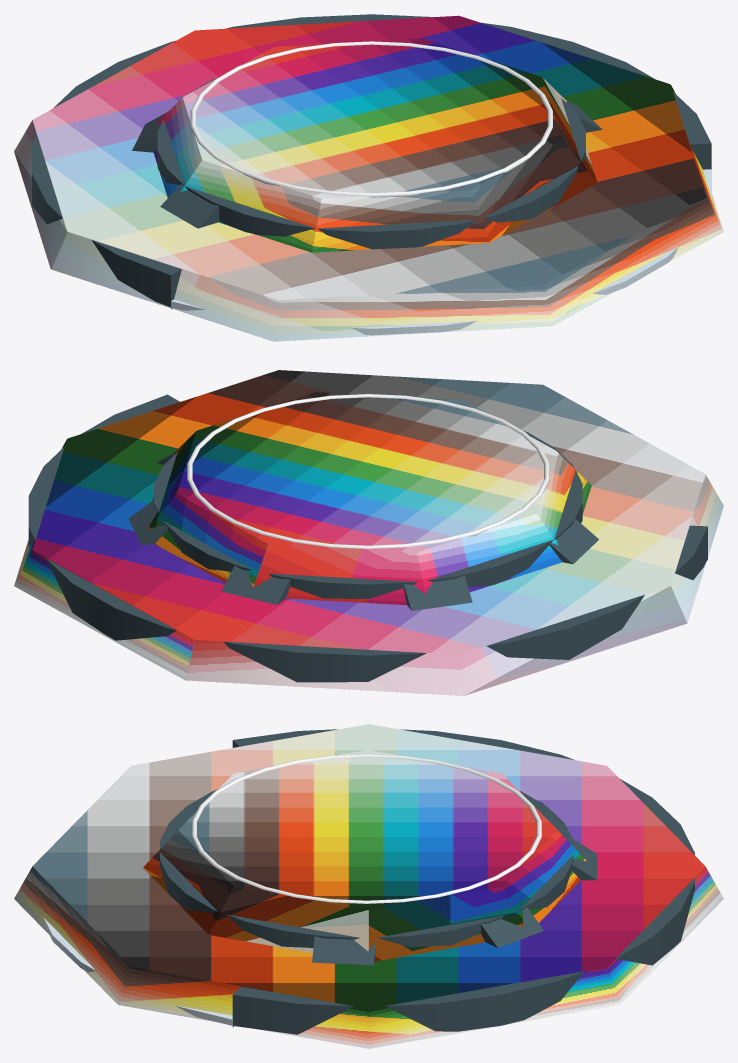
Rendered from M_chuansongtai01.FBX.
3 views of the same model, one above another, from view 1: azimuth 30°, elevation 25°; view 2: azimuth 150°, elevation 25°; view 3: azimuth 270°, elevation 25° (orthographic). The views are drawn at different scales.
Parts seen in each view (by area): view 1: M_pengzhuangti01, M_chuansongtai01_08, M_chuansongtai01_01, M_chuansongtai01_03, M_chuansongtai01_09, M_chuansongtai01_02; view 2: M_pengzhuangti01, M_chuansongtai01_08, M_chuansongtai01_01, M_chuansongtai01_09, M_chuansongtai01_03; view 3: M_pengzhuangti01, M_chuansongtai01_08, M_chuansongtai01_01, M_chuansongtai01_03, M_chuansongtai01_09, M_chuansongtai01_02.
Boxes of the visible parts, left/top/right/bottom form: M_pengzhuangti01: left=14, top=15, right=723, bottom=341; M_chuansongtai01_08: left=32, top=14, right=711, bottom=309; M_chuansongtai01_01: left=157, top=77, right=585, bottom=249; M_chuansongtai01_03: left=190, top=41, right=552, bottom=197; M_chuansongtai01_09: left=132, top=99, right=602, bottom=228; M_chuansongtai01_02: left=171, top=169, right=711, bottom=335; M_pengzhuangti01: left=14, top=370, right=723, bottom=695; M_chuansongtai01_08: left=28, top=394, right=707, bottom=682; M_chuansongtai01_01: left=154, top=430, right=582, bottom=599; M_chuansongtai01_09: left=128, top=452, right=598, bottom=610; M_chuansongtai01_03: left=187, top=394, right=549, bottom=548; M_pengzhuangti01: left=14, top=724, right=723, bottom=1048; M_chuansongtai01_08: left=232, top=729, right=694, bottom=1034; M_chuansongtai01_01: left=160, top=789, right=573, bottom=947; M_chuansongtai01_03: left=191, top=754, right=541, bottom=903; M_chuansongtai01_09: left=312, top=800, right=597, bottom=965; M_chuansongtai01_02: left=43, top=917, right=232, bottom=1025.
Size of the model in its own units: 2.19 by 0.277 by 2.19.
